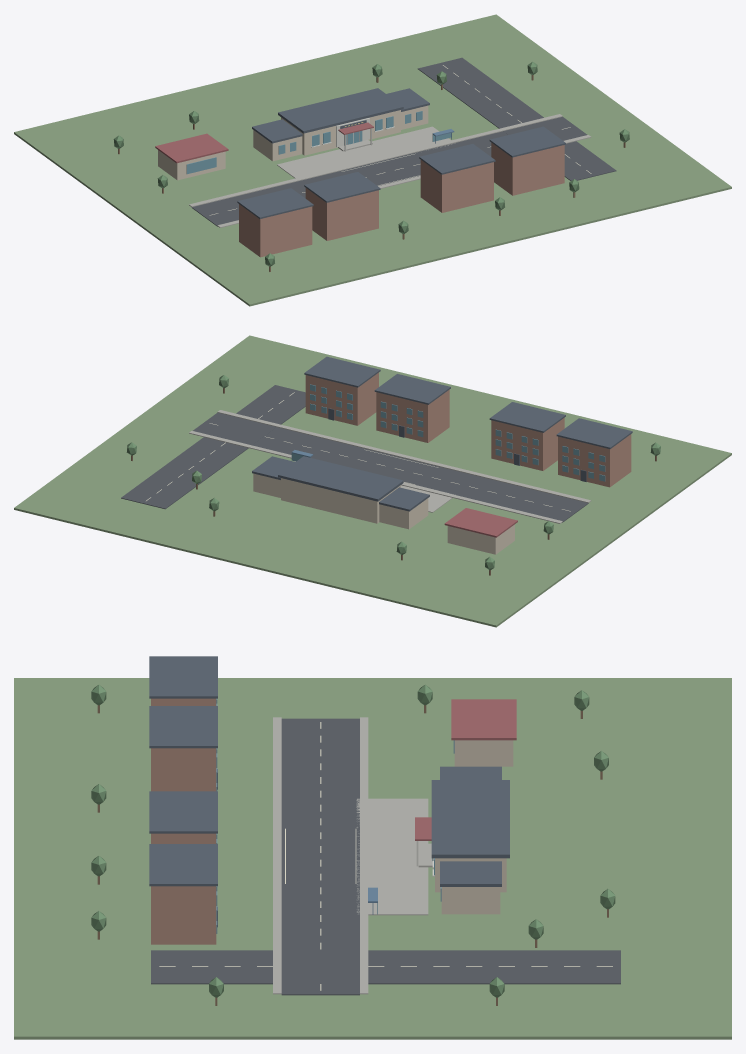
File: town.glb
3 renders of one model, top to bottom at view 1: azimuth 30°, elevation 25°; view 2: azimuth 150°, elevation 25°; view 3: azimuth 270°, elevation 25°, orthographic. The views are drawn at different scales.
Parts seen in each view (by area): view 1: Ground, Main roof, Apartment block.002, Apartment block, Station square, Apartment block.003, Apartment block.001, Side street.002, Side street.001, Road surface, Apartment roof.002, Apartment roof (+12 smaller); view 2: Ground, Main roof, Apartment block.002, Apartment block, Apartment block.003, Station main hall, Apartment block.001, Side street.002, Road segment, Road segment.001, Side street.001, Road surface (+14 smaller); view 3: Ground, Station square, Main roof, Side street.002, Road segment, Road segment.002, Road segment.001, Side street.001, Road surface, Side street, Apartment block.003, Apartment roof (+13 smaller).
Boxes of the visible parts, x1,y1,x2,y2 form: Ground: (14, 14, 731, 306); Main roof: (278, 88, 403, 133); Apartment block.002: (420, 160, 493, 212); Apartment block: (239, 204, 312, 257); Station square: (277, 126, 455, 178); Apartment block.003: (491, 142, 564, 195); Apartment block.001: (305, 188, 378, 240); Side street.002: (417, 57, 504, 100); Side street.001: (460, 89, 543, 128); Road surface: (340, 153, 420, 185); Apartment roof.002: (419, 144, 495, 174); Apartment roof: (237, 188, 313, 218); Ground: (14, 335, 731, 627); Main roof: (278, 456, 403, 501); Apartment block.002: (376, 389, 449, 442); Apartment block: (558, 434, 631, 487); Apartment block.003: (305, 372, 378, 425); Station main hall: (281, 478, 400, 523); Apartment block.001: (491, 418, 564, 470); Side street.002: (121, 466, 208, 509); Road segment: (490, 485, 588, 522); Road segment.001: (416, 467, 513, 503); Side street.001: (164, 437, 248, 477); Road surface: (343, 449, 439, 484); Ground: (14, 678, 731, 1039); Station square: (356, 798, 428, 915); Main roof: (431, 780, 509, 858); Side street.002: (490, 950, 620, 984); Road segment: (281, 718, 359, 773); Road segment.002: (281, 884, 359, 939); Road segment.001: (281, 773, 359, 828); Side street.001: (368, 950, 490, 984); Road surface: (281, 829, 359, 883); Side street: (151, 950, 272, 984); Apartment block.003: (151, 886, 216, 944); Apartment roof: (149, 656, 217, 698).
Size of the model in its own units: 130 by 11.07 by 110.
